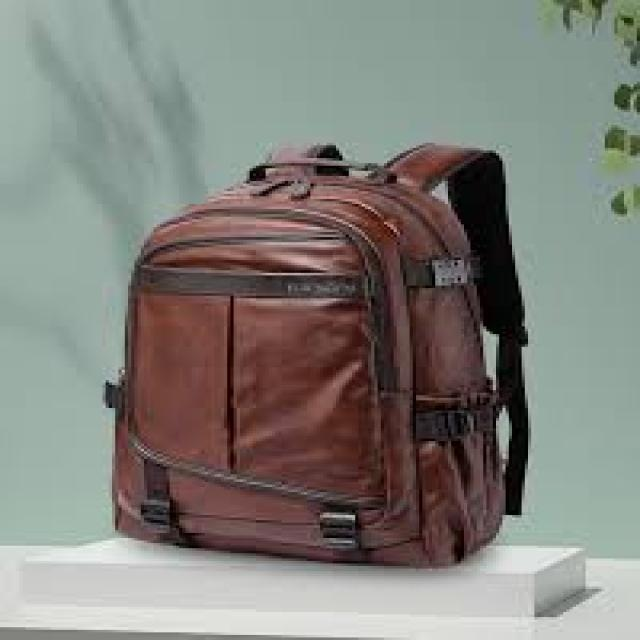backpack: (103, 141, 529, 567)
